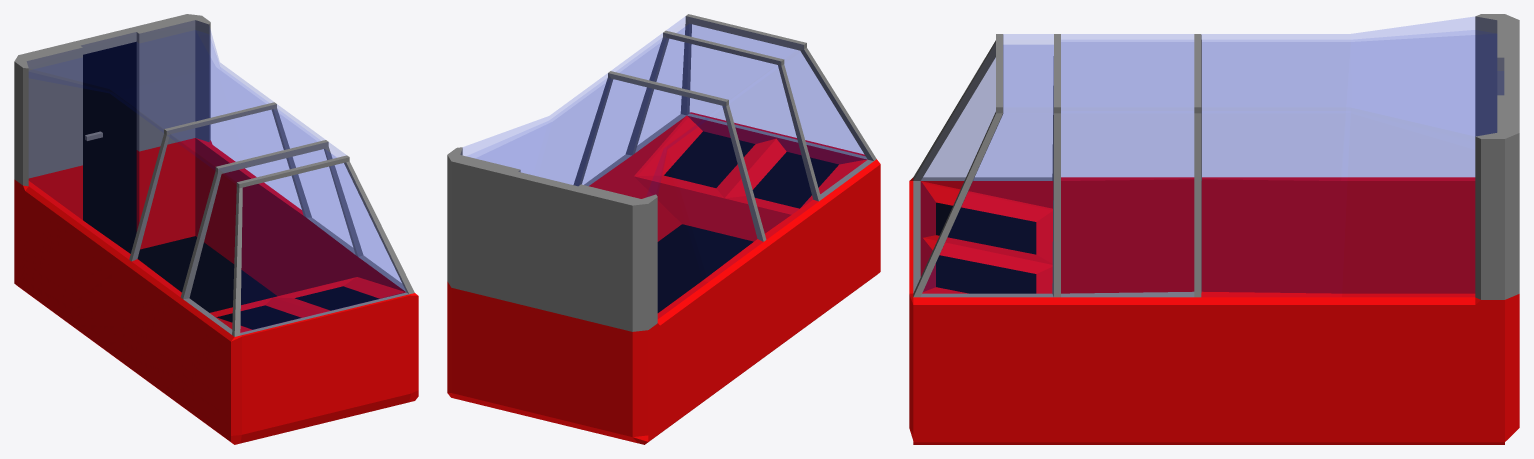
Rendered from Cockpit.fbx.
3 views of the same model, side by side, from view 1: azimuth 30°, elevation 25°; view 2: azimuth 150°, elevation 25°; view 3: azimuth 270°, elevation 25° (orthographic). The views are drawn at different scales.
Parts seen in each view (by area): view 1: cockpit; view 2: cockpit; view 3: cockpit.
Boxes of the visible parts, bbox=[...] form: cockpit: bbox=[14, 14, 418, 444]; cockpit: bbox=[447, 14, 880, 444]; cockpit: bbox=[909, 14, 1519, 444].
Size of the model in its own units: 10 by 11.72 by 20.64.
